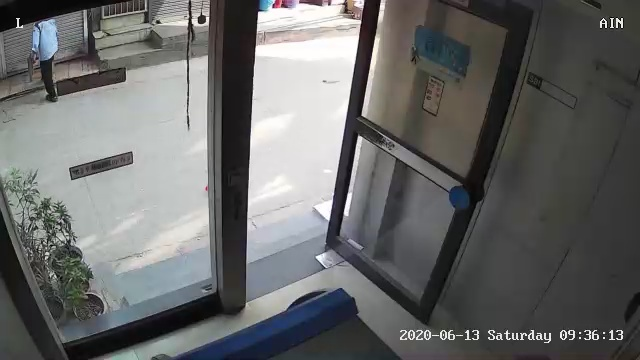open: (189, 5, 538, 327)
